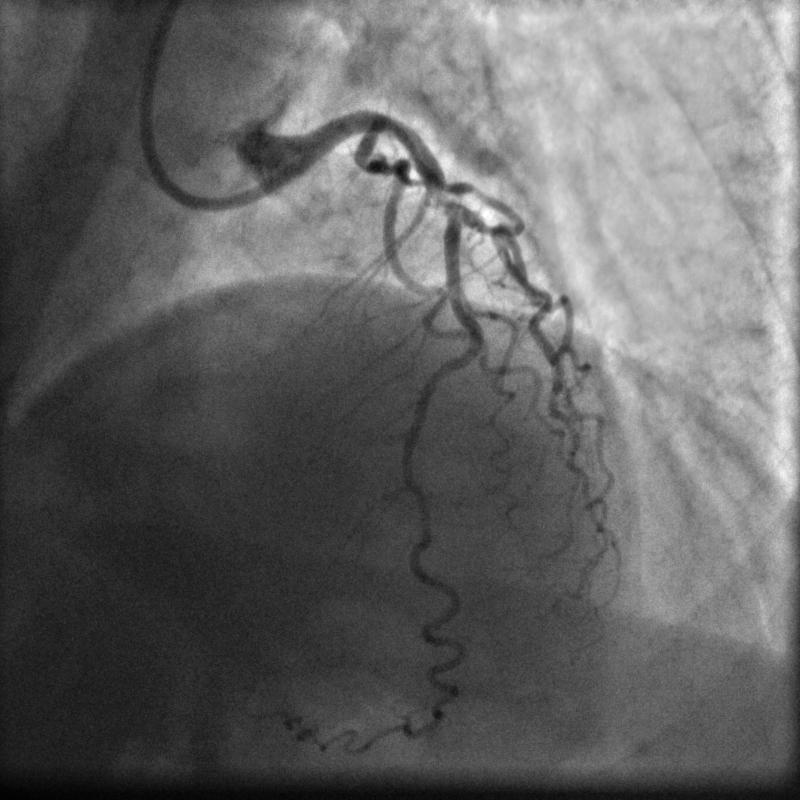Stenosis: (423, 183, 459, 208)
